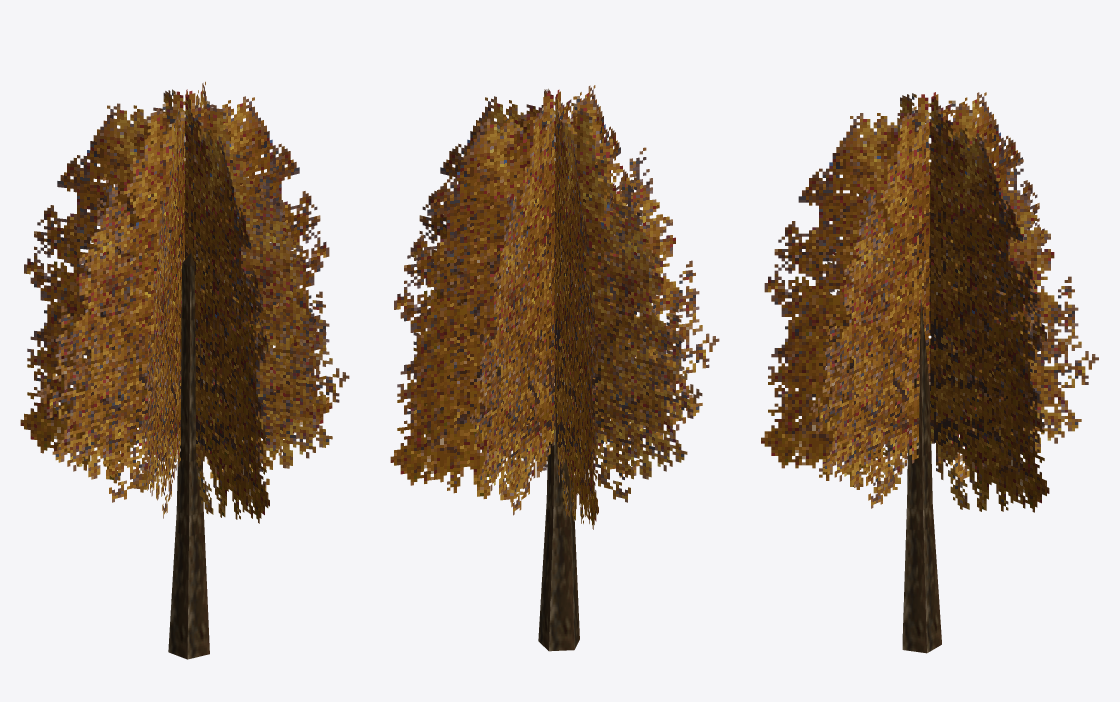
The model's file is tree_5.glb.
3 views of the same model, side by side, from view 1: azimuth 30°, elevation 25°; view 2: azimuth 150°, elevation 25°; view 3: azimuth 270°, elevation 25° (orthographic).
Visible parts, largest first — view 1: Ps1Tree5Texture.001, Ps1Tree5Texture.003, Ps1Tree5Texture, Ps1Tree5Texture.002, Trunk.004; view 2: Ps1Tree5Texture.002, Ps1Tree5Texture.001, Ps1Tree5Texture, Ps1Tree5Texture.003, Trunk.004; view 3: Ps1Tree5Texture.002, Ps1Tree5Texture, Ps1Tree5Texture.003, Trunk.004.
Boxes of the visible parts, box(x1,y1,x2,y2) form: Ps1Tree5Texture.001: box(37, 91, 332, 502); Ps1Tree5Texture.003: box(20, 91, 349, 492); Ps1Tree5Texture: box(144, 89, 269, 523); Ps1Tree5Texture.002: box(141, 81, 209, 518); Trunk.004: box(168, 252, 209, 659); Ps1Tree5Texture.002: box(390, 93, 719, 502); Ps1Tree5Texture.001: box(407, 91, 702, 502); Ps1Tree5Texture: box(470, 85, 636, 515); Ps1Tree5Texture.003: box(544, 88, 598, 529); Trunk.004: box(538, 336, 579, 651); Ps1Tree5Texture.002: box(825, 93, 1049, 512); Ps1Tree5Texture: box(761, 94, 1098, 496); Ps1Tree5Texture.003: box(810, 92, 1046, 508); Trunk.004: box(902, 257, 941, 653).
Bounding box in the file's own units: 0.9931 × 1.74 × 0.9931.
2 materials, 2 textured.
